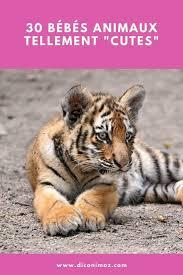Non_Gorille: (35, 79, 168, 226)
